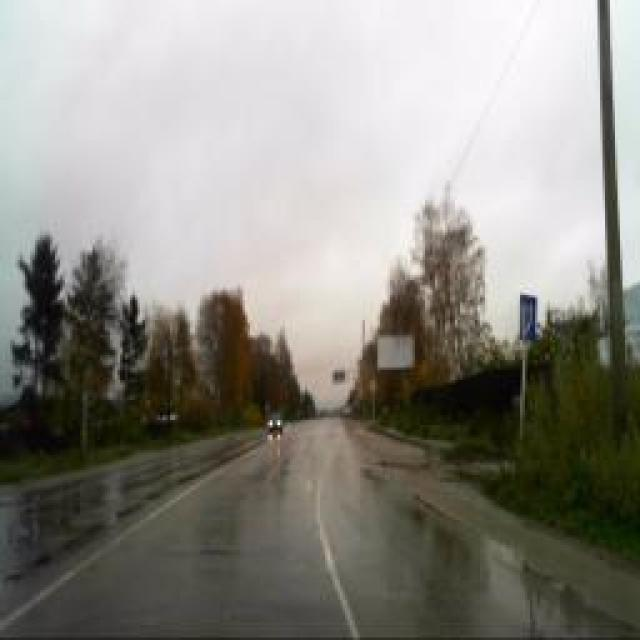sign: (368, 377, 378, 395)
